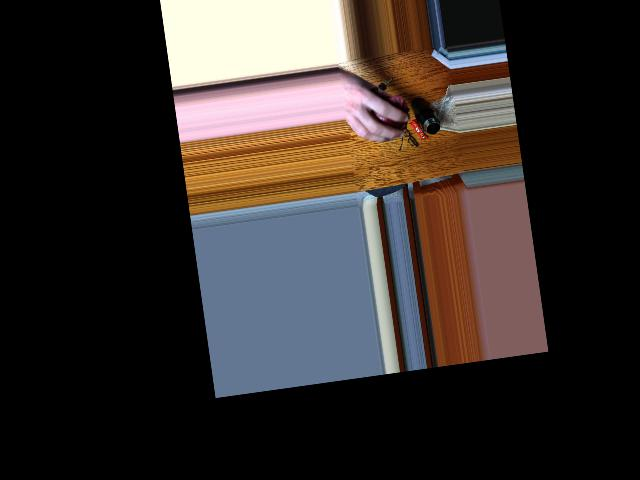onion: (364, 87, 403, 136)
